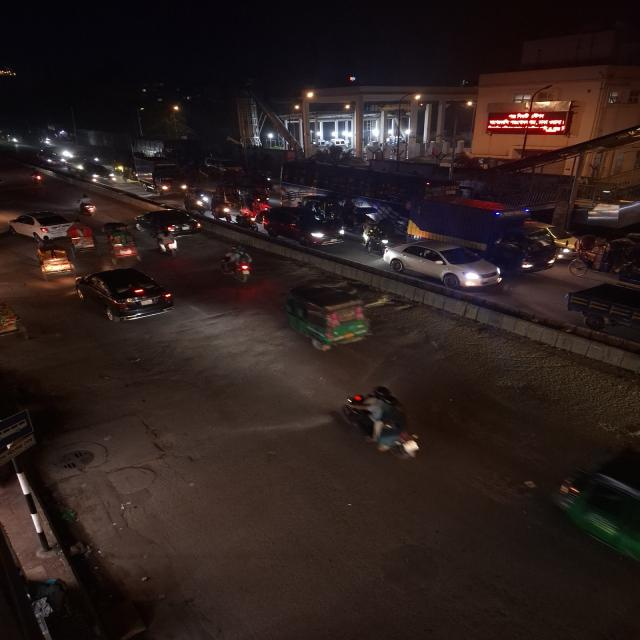car: (382, 240, 507, 294), (72, 266, 179, 324), (260, 207, 346, 246), (5, 210, 78, 240), (131, 208, 203, 237), (75, 160, 116, 180), (90, 171, 116, 183)
cng: (546, 452, 640, 586), (278, 282, 378, 352), (32, 242, 76, 276)
motorcycle: (341, 382, 426, 464), (218, 245, 258, 284), (152, 230, 181, 256), (76, 192, 100, 217), (28, 170, 46, 186)
pickup_van: (560, 281, 640, 346)
rickshaw: (571, 232, 640, 294), (32, 241, 76, 277), (0, 296, 31, 347), (104, 224, 141, 260), (64, 222, 99, 252)
truck: (400, 201, 561, 271), (133, 158, 186, 196)
